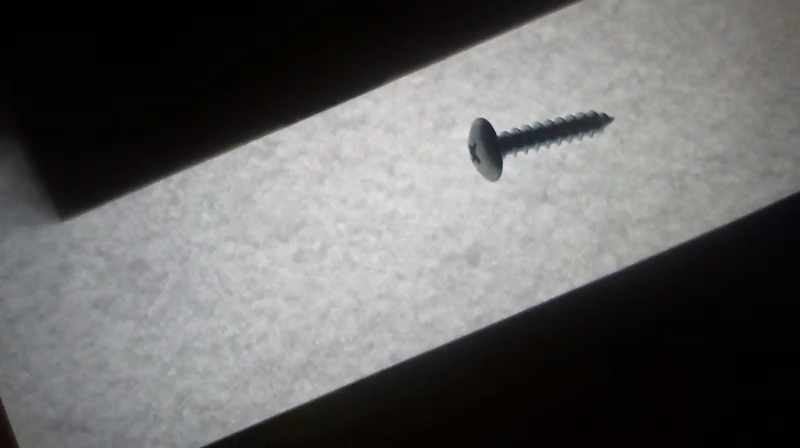S003: (463, 106, 618, 186)
